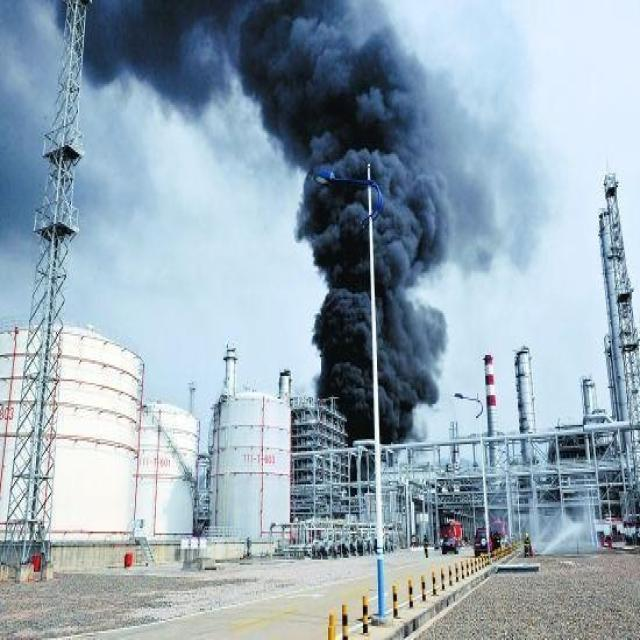Smoke: (0, 0, 574, 497)
